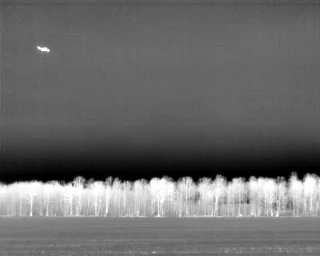DRONE: (34, 42, 54, 57)
